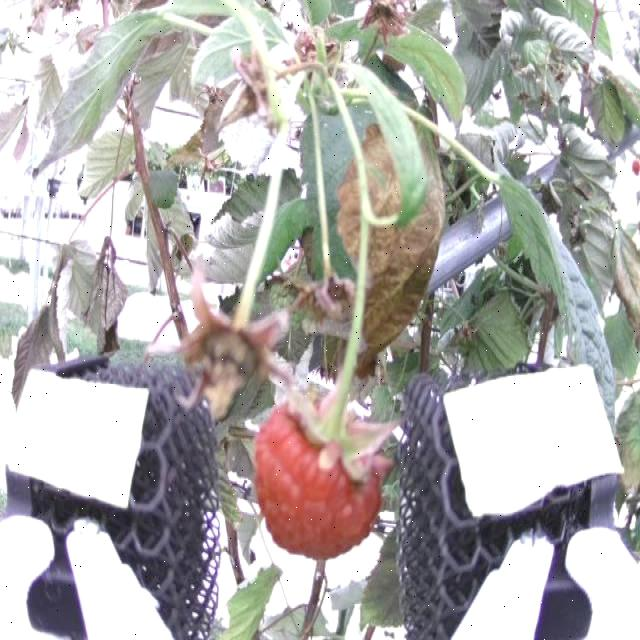Riped berries: (248, 386, 390, 556)
